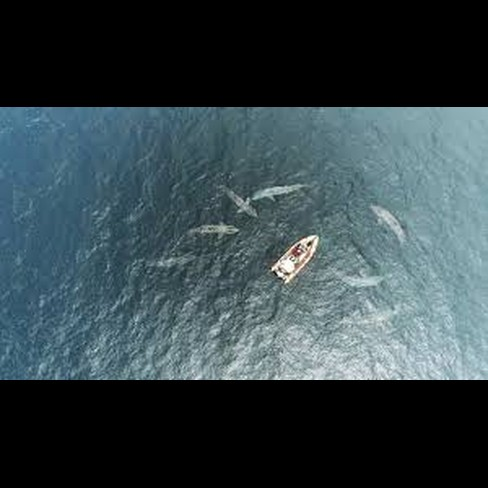boat: (273, 227, 322, 284)
